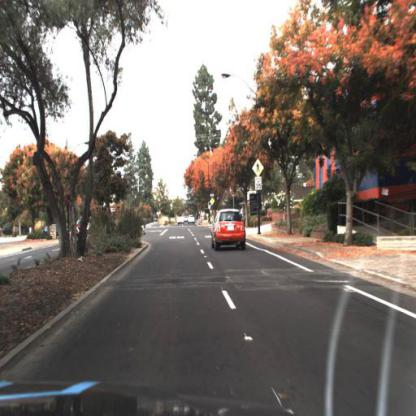car: (212, 209, 247, 251), (73, 212, 93, 240)
